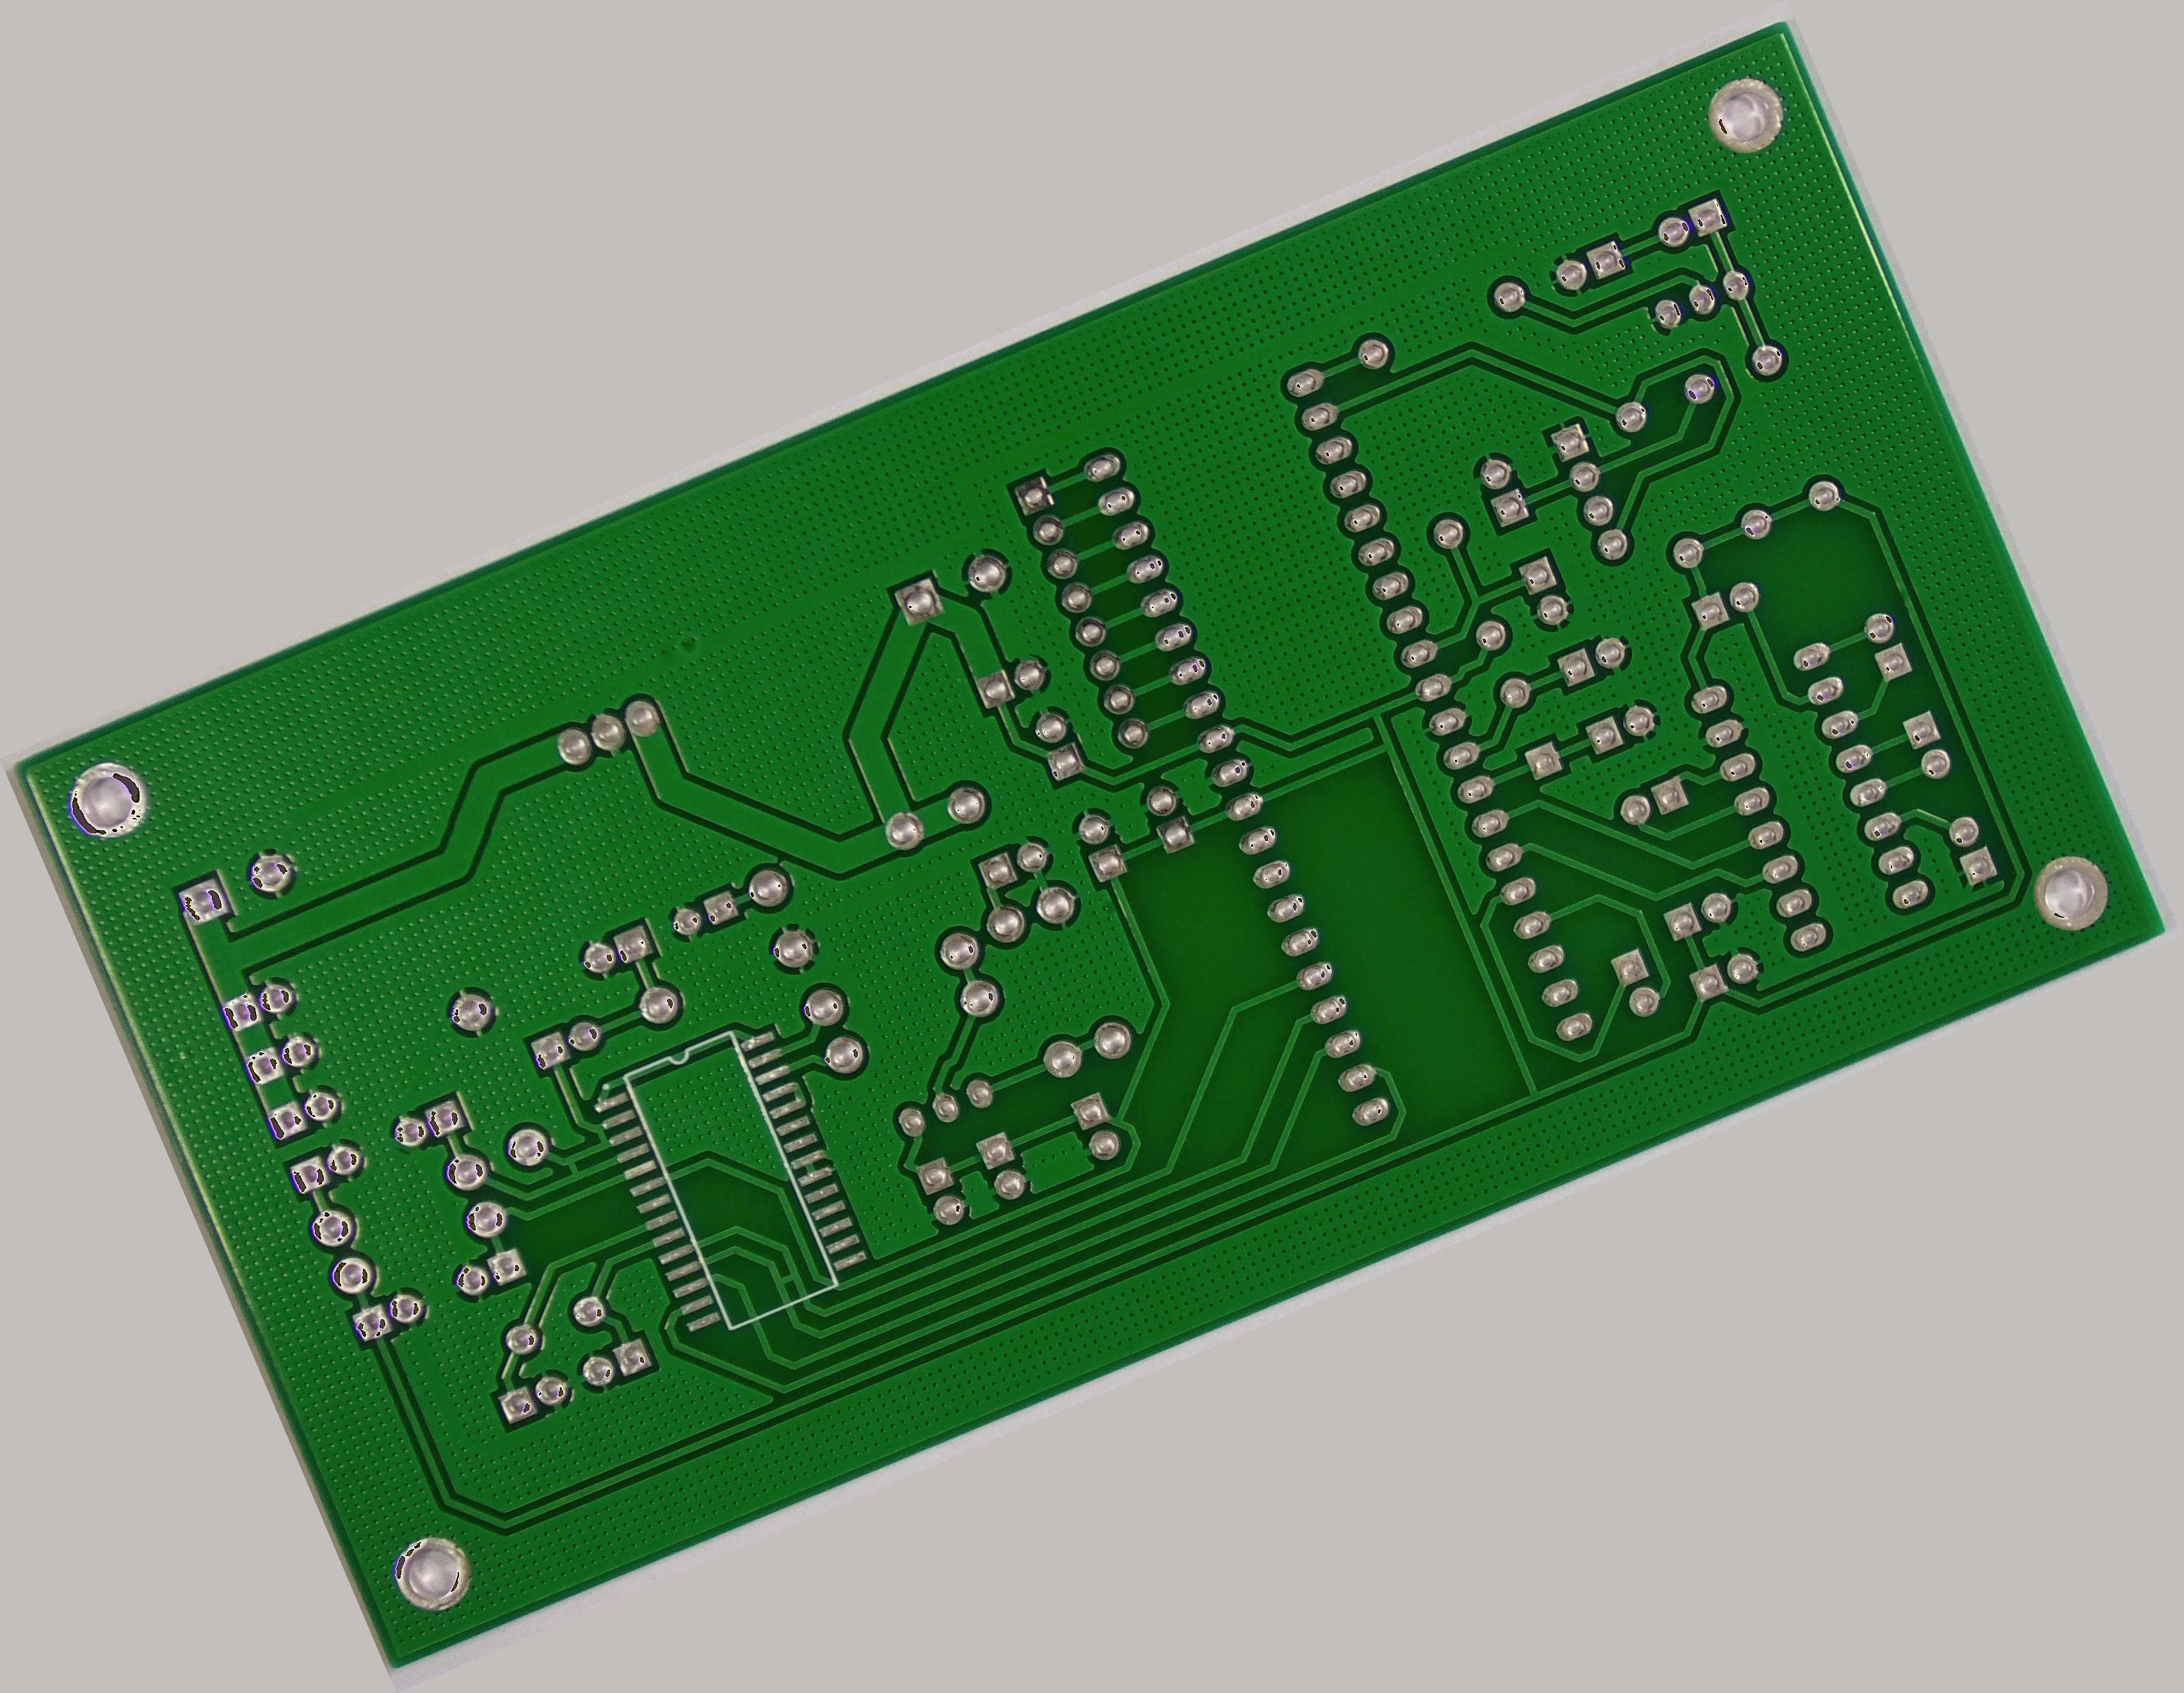short: (761, 1255, 810, 1305), (548, 1147, 594, 1191), (585, 1115, 619, 1152)
